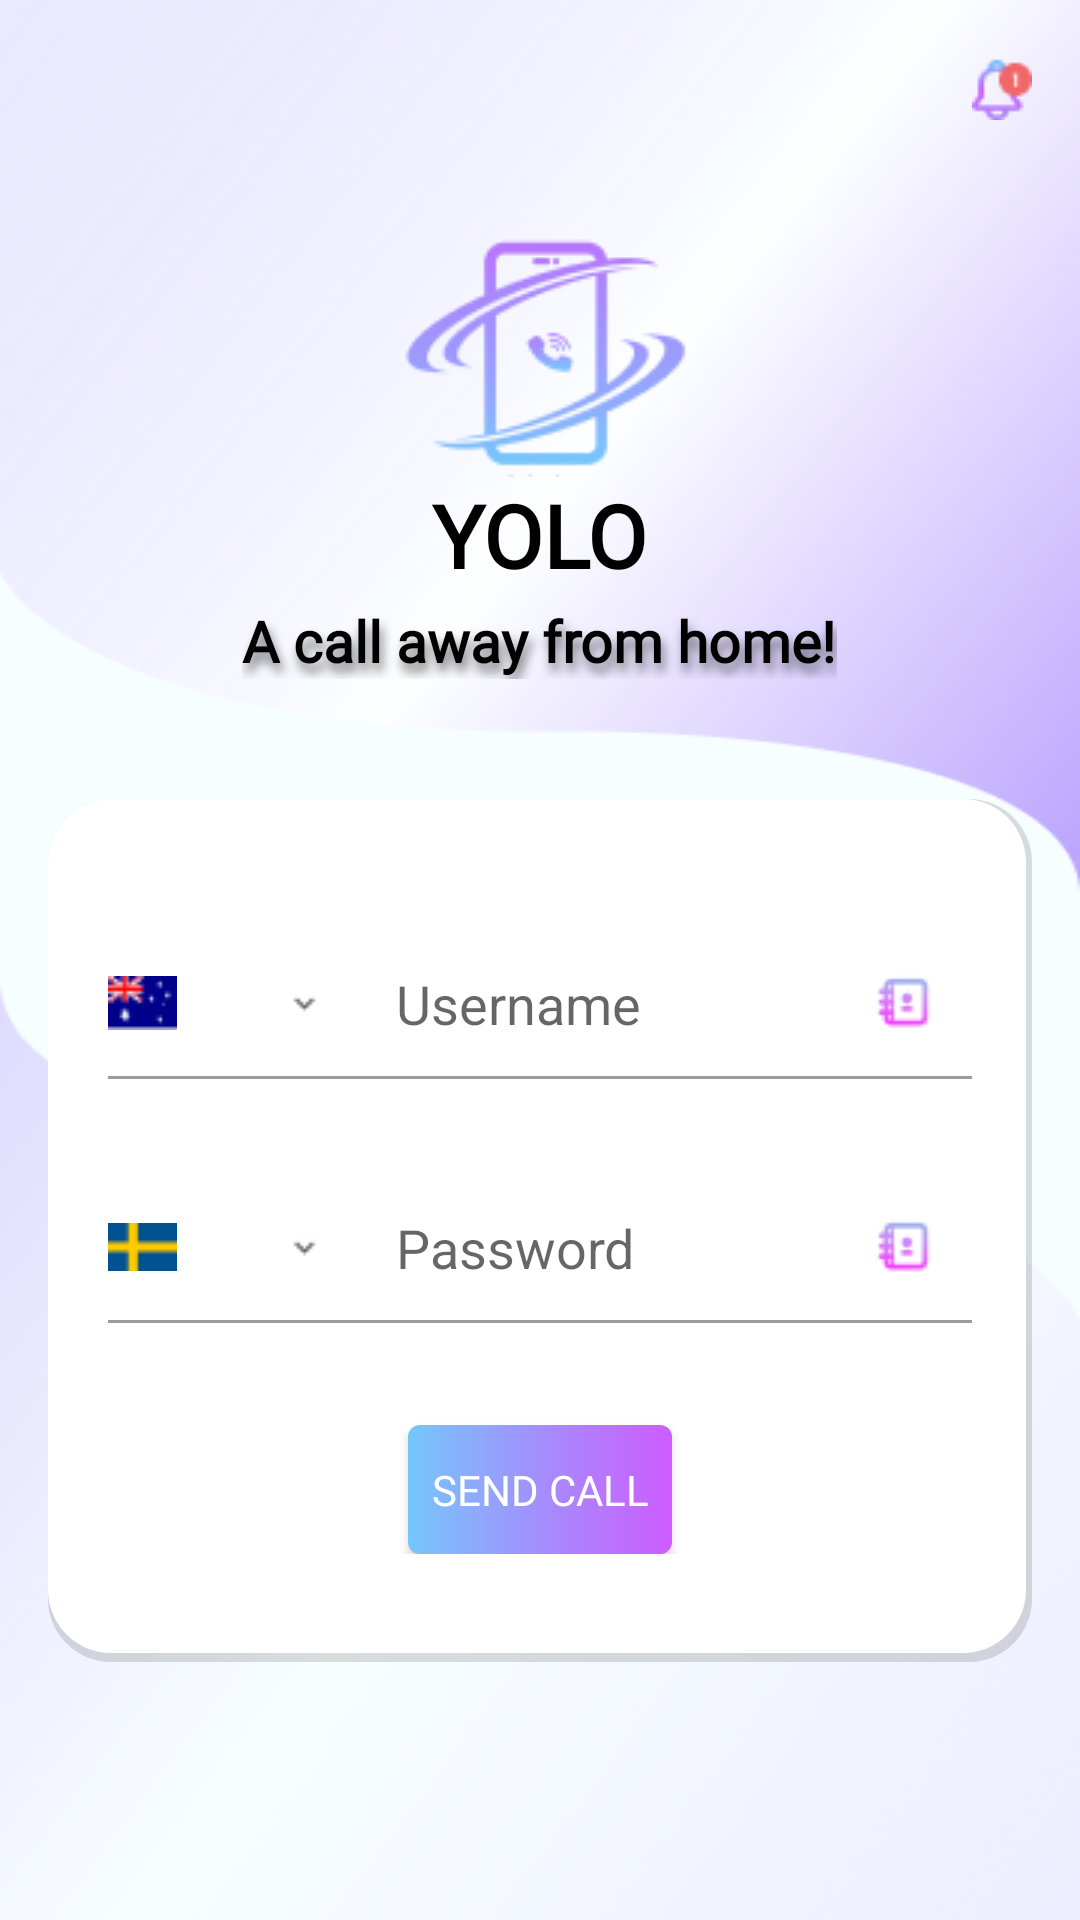

Icon click points for this 1080*1920 phone screenshot, format (x,y):
contact list: (904,1003), (904,1247)
notification bell: (1002,89)
